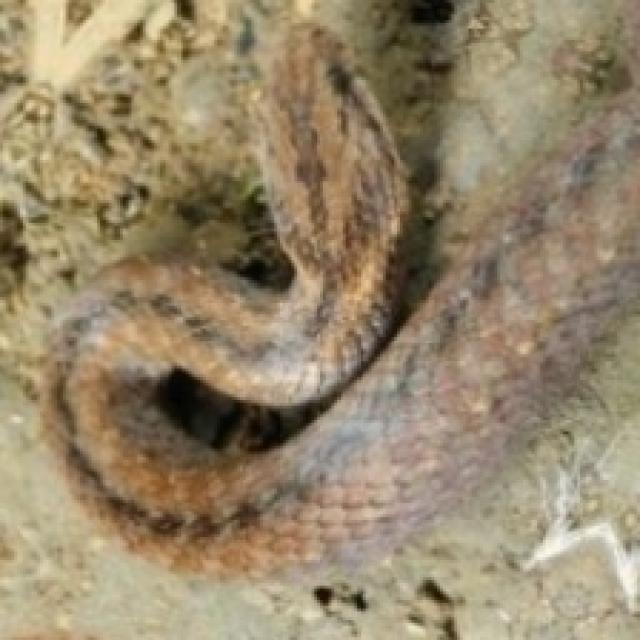reinhardts lined snake: (46, 0, 637, 574)
